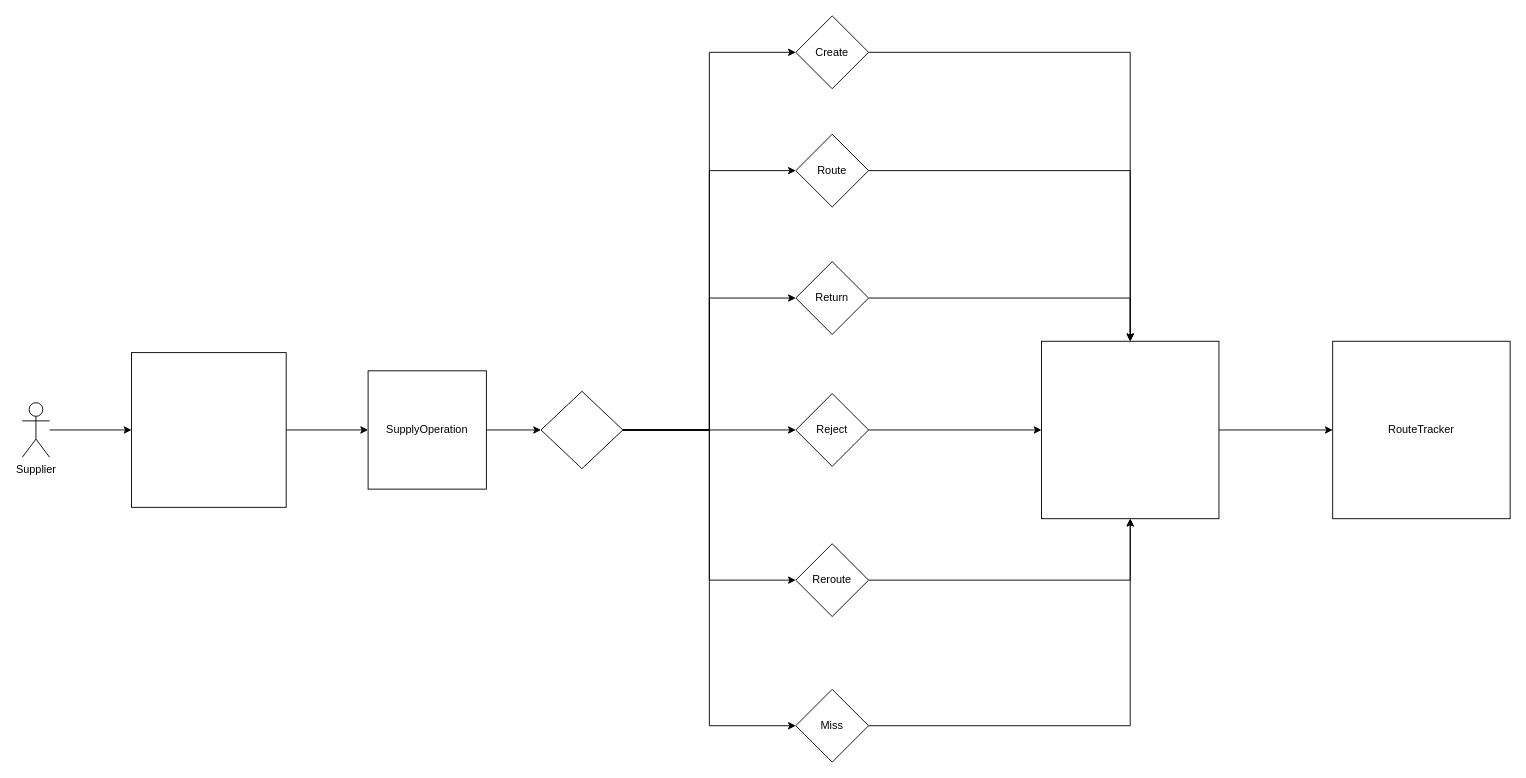
Image size: 1526x778. Some labels were removed from this diagram. The shapes that lost their labels are listed below. From the top down, each one's centre as x and y in pixels, then its label:
At point (208, 429): "Manager".
At point (581, 429): "ProcessType".
At point (1130, 429): "SoftwareConfiguration".
